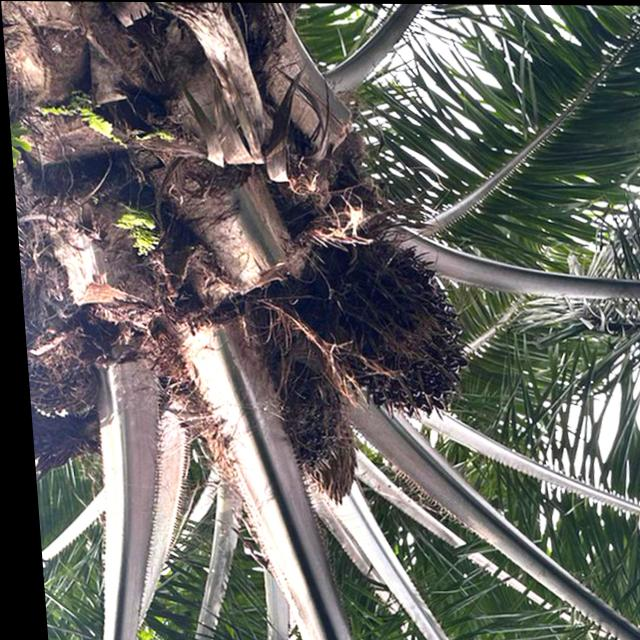ripe: (302, 236, 483, 433)
